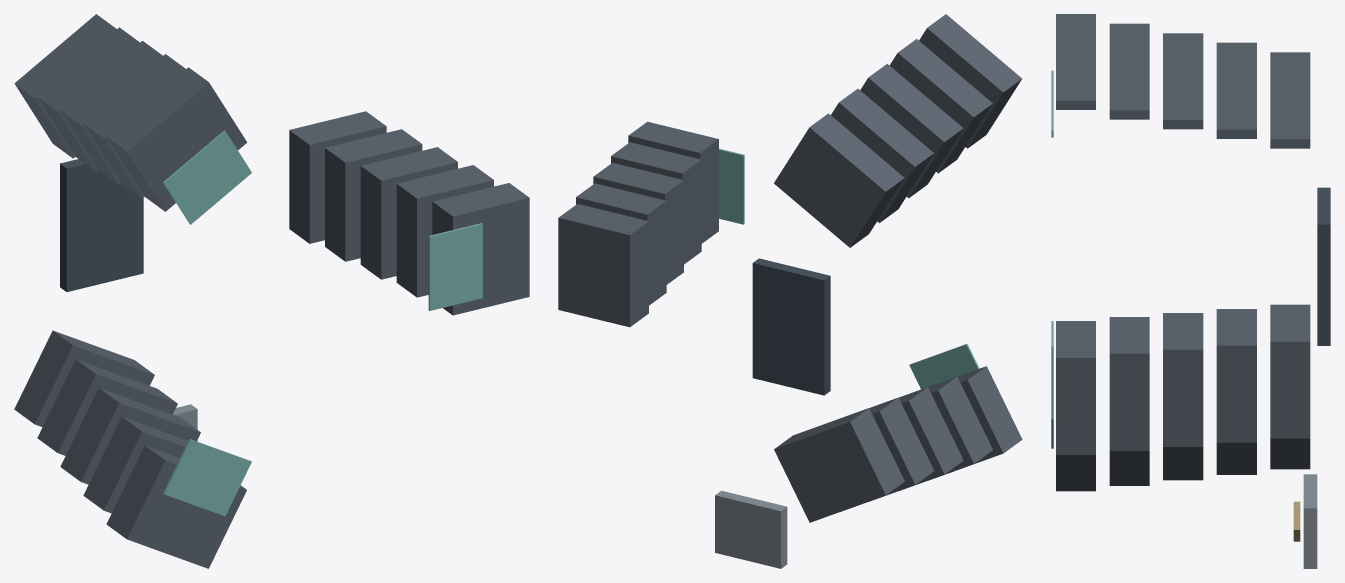
File: 17_open_hand_lock.glb
The picture shows the model from 3 angles, left to right: view 1: azimuth 30°, elevation 25°; view 2: azimuth 150°, elevation 25°; view 3: azimuth 270°, elevation 25°; orthographic projection. The views are drawn at different scales.
Parts seen in each view (by area): view 1: part_021, part_011, part_017, part_005, part_003, part_001, part_002, part_004, part_014, part_013, part_015, part_006 (+7 smaller); view 2: part_001, part_021, part_007, part_013, part_019, part_009, part_008, part_011, part_010, part_002, part_004, part_005 (+7 smaller); view 3: part_001, part_002, part_003, part_004, part_005, part_007, part_008, part_009, part_010, part_011, part_021, part_017 (+5 smaller).
Boxes of the visible parts, <box> form: part_021: <box>60,159,143,291</box>; part_011: <box>106,67,247,211</box>; part_017: <box>106,445,246,568</box>; part_005: <box>432,183,529,315</box>; part_003: <box>360,147,457,279</box>; part_001: <box>289,111,386,243</box>; part_002: <box>325,129,422,261</box>; part_004: <box>396,165,493,297</box>; part_014: <box>37,359,177,455</box>; part_013: <box>14,330,154,426</box>; part_015: <box>60,388,200,484</box>; part_006: <box>428,223,482,310</box>; part_001: <box>558,204,648,327</box>; part_021: <box>752,258,830,395</box>; part_007: <box>774,113,904,247</box>; part_013: <box>774,408,904,522</box>; part_019: <box>715,490,787,568</box>; part_009: <box>860,63,963,197</box>; part_008: <box>831,88,933,222</box>; part_011: <box>919,14,1022,148</box>; part_010: <box>889,39,992,173</box>; part_002: <box>576,183,666,305</box>; part_004: <box>611,142,701,264</box>; part_005: <box>628,121,718,243</box>; part_001: <box>1270,304,1310,438</box>; part_002: <box>1216,309,1256,442</box>; part_003: <box>1163,313,1203,446</box>; part_004: <box>1109,317,1149,450</box>; part_005: <box>1056,321,1095,454</box>; part_007: <box>1270,52,1310,148</box>; part_008: <box>1216,42,1256,138</box>; part_009: <box>1163,33,1203,129</box>; part_010: <box>1109,23,1149,119</box>; part_011: <box>1056,14,1095,109</box>; part_021: <box>1317,187,1330,345</box>; part_017: <box>1056,455,1095,491</box>.
Size of the model in its own units: 68.15 by 82.34 by 41.67.
